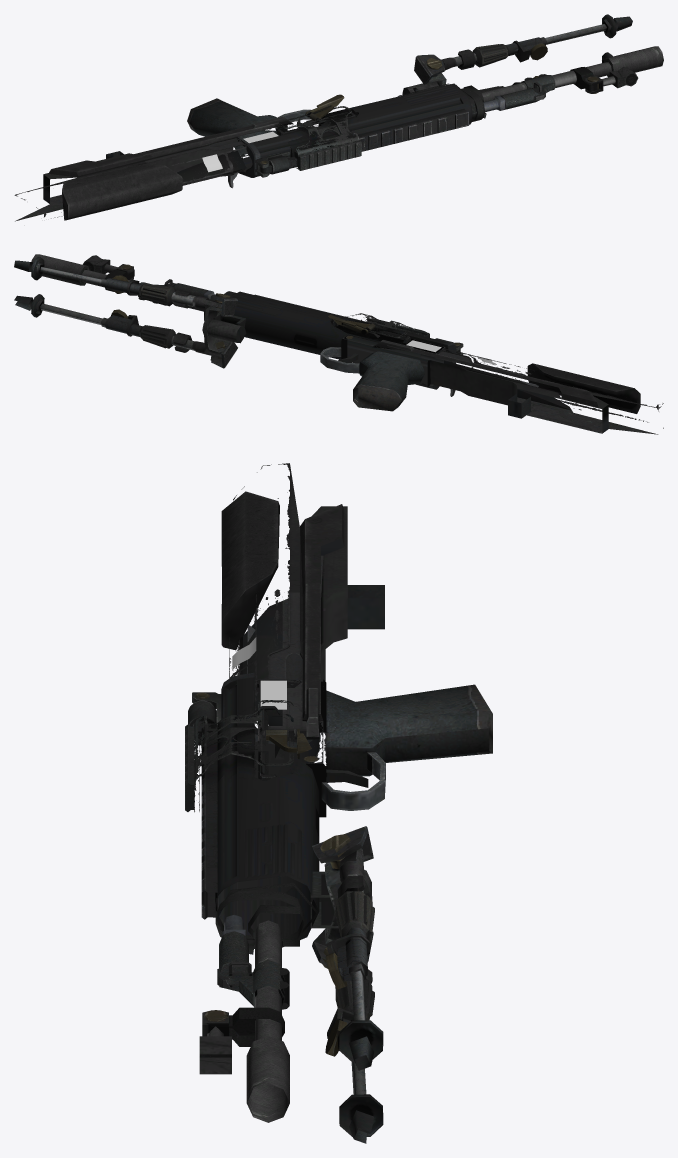
The model's file is t6_wpn_sniper_svu_view_LOD0.obj.
3 views of the same model, one above another, from view 1: azimuth 30°, elevation 25°; view 2: azimuth 150°, elevation 25°; view 3: azimuth 270°, elevation 25° (orthographic). The views are drawn at different scales.
Parts seen in each view (by area): view 1: mtl_t6_wpn_sniper_svu, mtl_t6_wpn_sniper_svu_camo3, mtl_t6_wpn_sniper_svu_camo2; view 2: mtl_t6_wpn_sniper_svu, mtl_t6_wpn_sniper_svu_camo2, mtl_t6_wpn_sniper_svu_camo3; view 3: mtl_t6_wpn_sniper_svu, mtl_t6_wpn_sniper_svu_camo2, mtl_t6_wpn_sniper_svu_camo3.
Part boxes in pixels (<box>): mtl_t6_wpn_sniper_svu: <box>14,14,663,221</box>; mtl_t6_wpn_sniper_svu_camo3: <box>21,43,598,193</box>; mtl_t6_wpn_sniper_svu_camo2: <box>62,98,287,220</box>; mtl_t6_wpn_sniper_svu: <box>14,254,663,434</box>; mtl_t6_wpn_sniper_svu_camo2: <box>353,351,640,413</box>; mtl_t6_wpn_sniper_svu_camo3: <box>110,264,654,408</box>; mtl_t6_wpn_sniper_svu: <box>185,463,384,1143</box>; mtl_t6_wpn_sniper_svu_camo2: <box>221,491,492,776</box>; mtl_t6_wpn_sniper_svu_camo3: <box>188,465,385,1056</box>.
Size of the model in its own units: 99.34 by 10.52 by 21.05.
